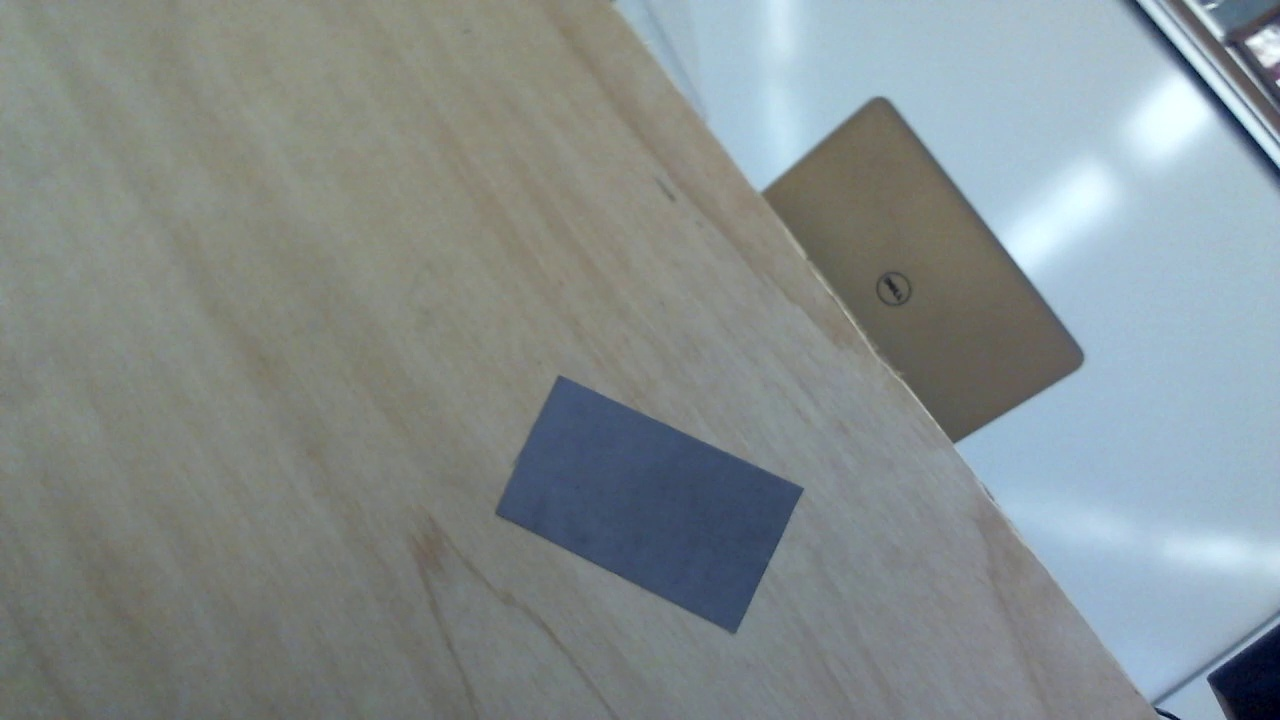Tape: (494, 374, 803, 637)
